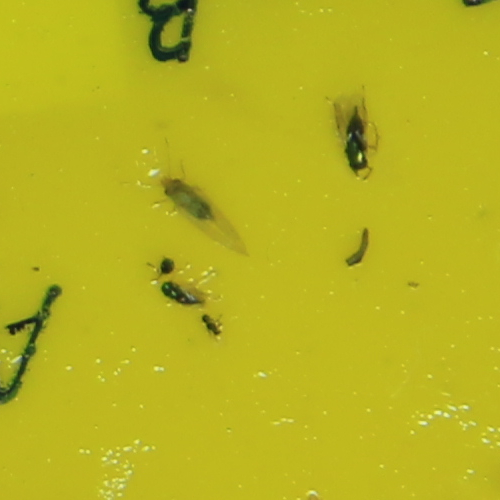psylla: (154, 178, 212, 224)
wasp: (339, 103, 374, 179), (161, 282, 202, 305)
